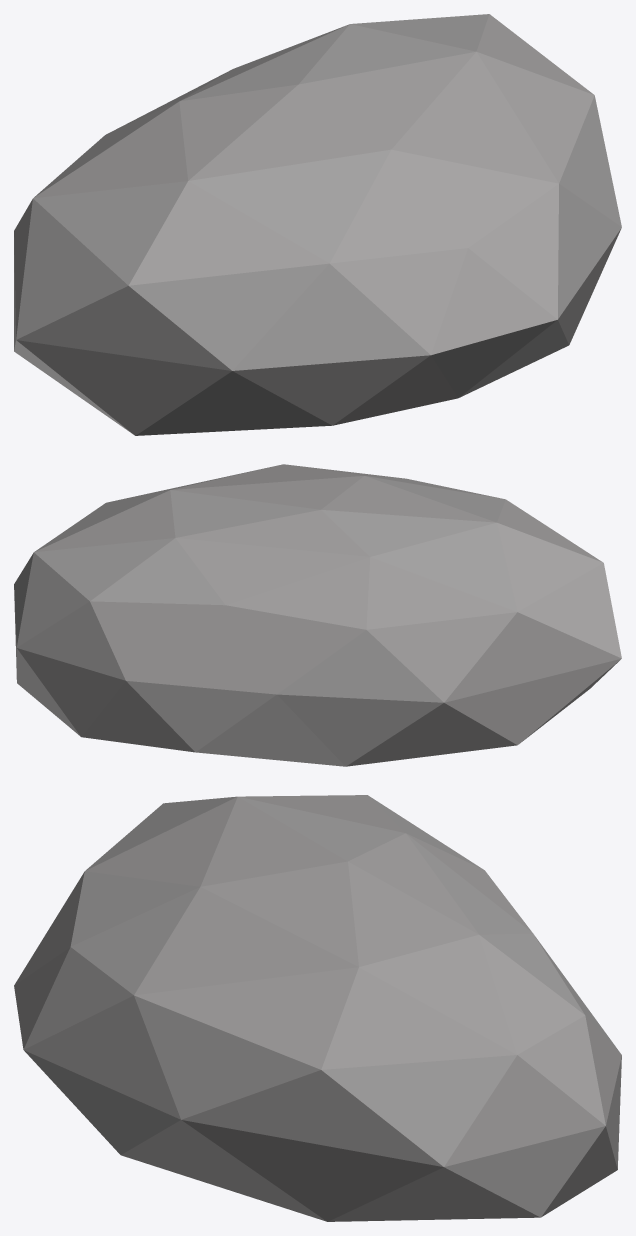
Rendered from Rock10.fbx.
3 views of the same model, one above another, from view 1: azimuth 30°, elevation 25°; view 2: azimuth 150°, elevation 25°; view 3: azimuth 270°, elevation 25° (orthographic). The views are drawn at different scales.
Parts seen in each view (by area): view 1: Small Rock 5; view 2: Small Rock 5; view 3: Small Rock 5.
Boxes of the visible parts, x1=… form: Small Rock 5: x1=14, y1=14, x2=621, y2=435; Small Rock 5: x1=14, y1=464, x2=621, y2=766; Small Rock 5: x1=14, y1=795, x2=621, y2=1221.
Bounding box in the file's own units: 260 × 329 × 119.
